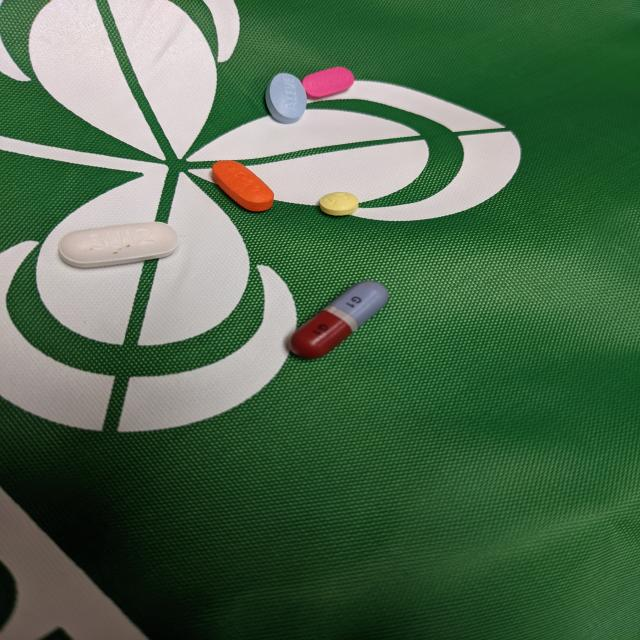non-organic waste: (287, 280, 391, 360), (58, 220, 180, 269), (209, 158, 276, 212), (263, 72, 308, 124), (301, 66, 356, 100), (318, 191, 359, 216)
